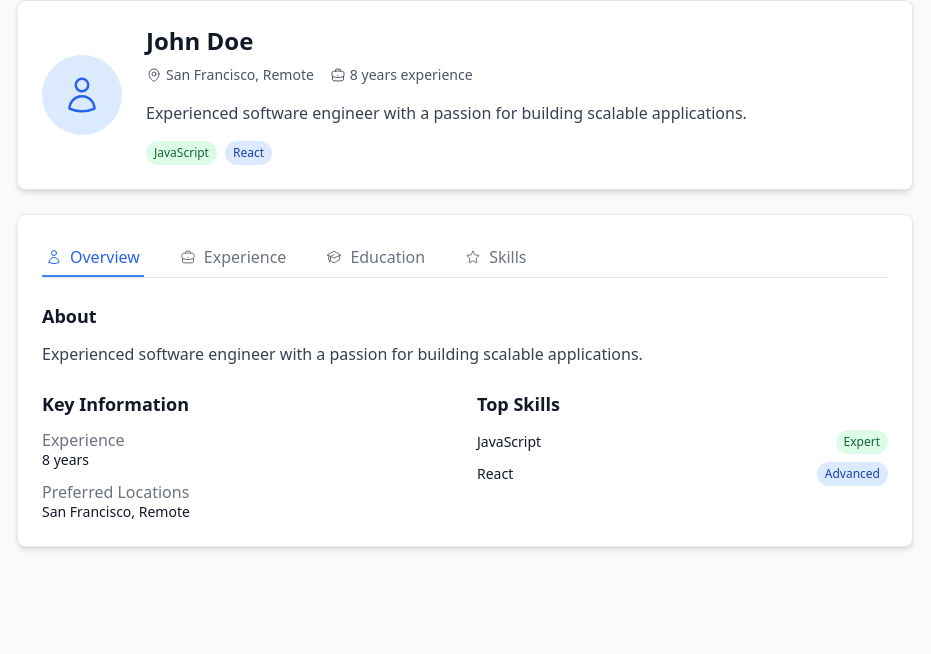
Scenario: Job Management Workflows › CandidateProfile Component › switches between tabs correctly
# Click on Skills tab
Click the button "Skills": (496, 258) [461, 239, 530, 277]
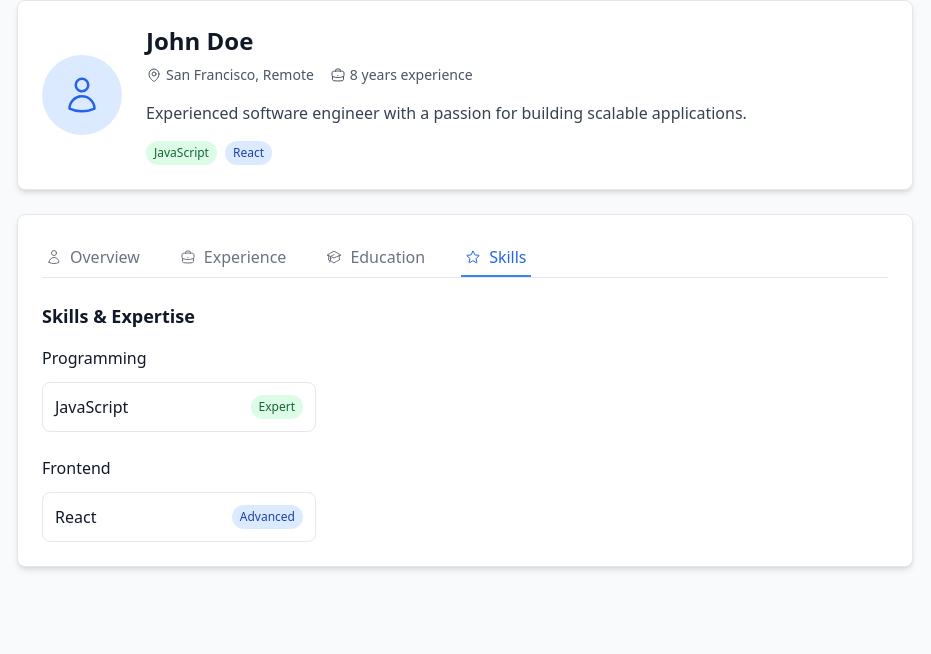
Expected: the heading "Skills & Expertise" is shown, [42, 304, 195, 328]
# Click on Education tab
Click the button "Education": (376, 258) [322, 239, 429, 277]
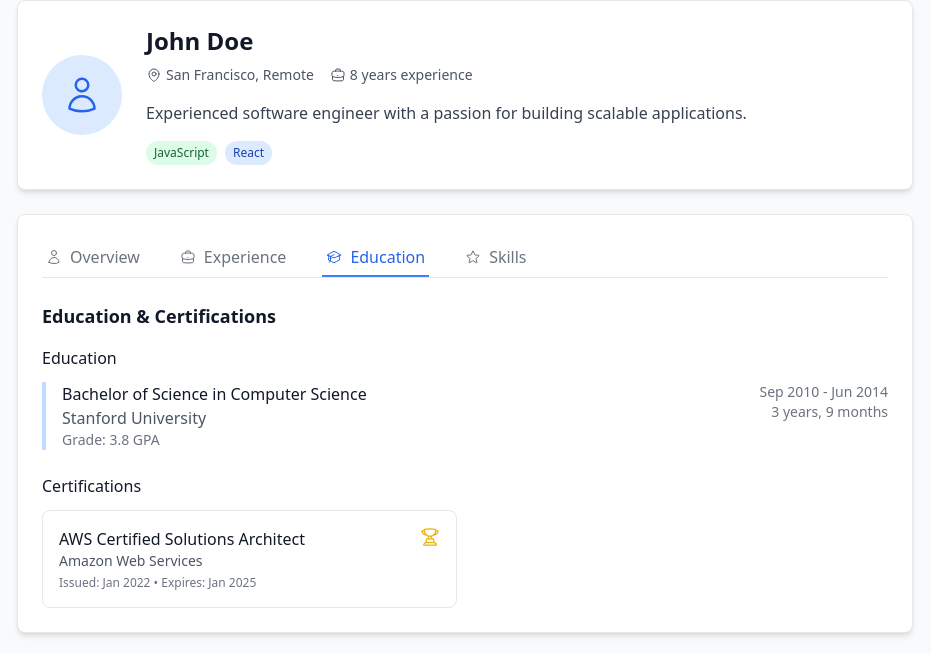
Expected: the heading "Education & Certifications" is shown, [42, 304, 276, 328]
Expected: the text "Stanford University" is shown, [62, 407, 206, 429]
